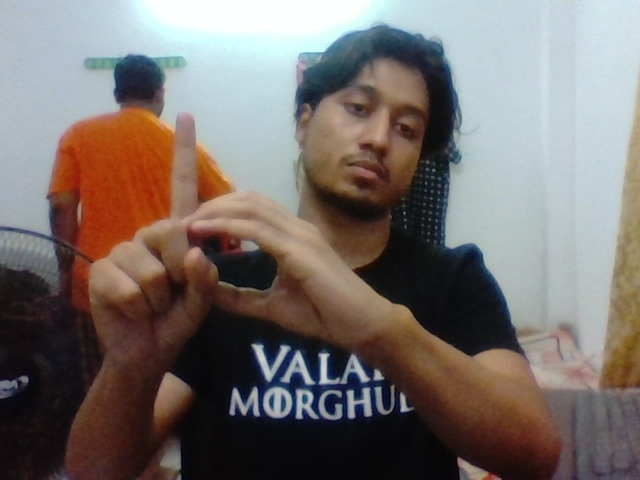D: (137, 100, 301, 319)
